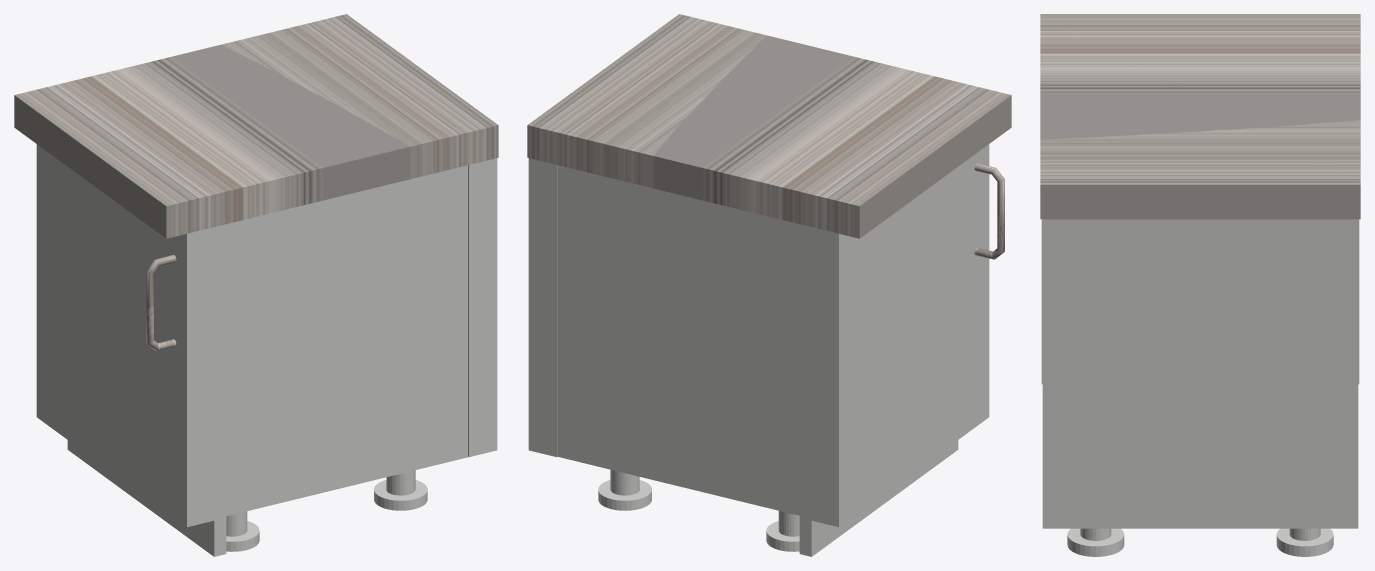
File: cabinet1.glb
3 renders of one model, left to right at view 1: azimuth 30°, elevation 25°; view 2: azimuth 150°, elevation 25°; view 3: azimuth 270°, elevation 25°, orthographic. The views are drawn at different scales.
Visible parts, largest first — view 1: Cube, Cube.002, Vert; view 2: Cube, Cube.002, Vert; view 3: Cube, Cube.002.
Boxes of the visible parts, <box> form: Cube: <box>14,14,498,556</box>; Cube.002: <box>36,144,215,527</box>; Vert: <box>146,254,176,351</box>; Cube: <box>527,14,1011,556</box>; Cube.002: <box>810,144,989,527</box>; Vert: <box>974,163,1004,259</box>; Cube: <box>1040,14,1360,556</box>; Cube.002: <box>1041,219,1359,384</box>.
Bounding box in the file's own units: 9.59 × 10.18 × 7.46.
2 materials, 1 textured.
